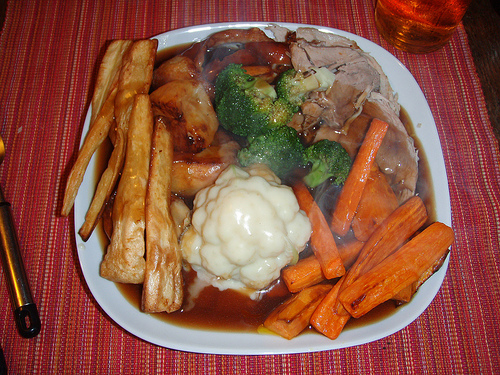cauliflower: (182, 165, 314, 293), (214, 60, 297, 144)
